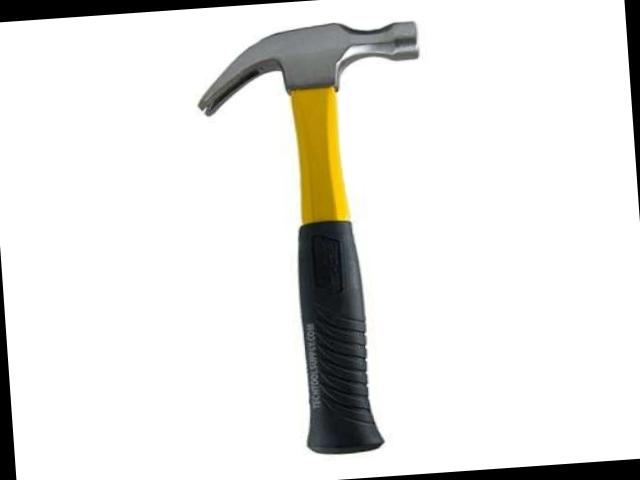hammer: (192, 13, 449, 462)
